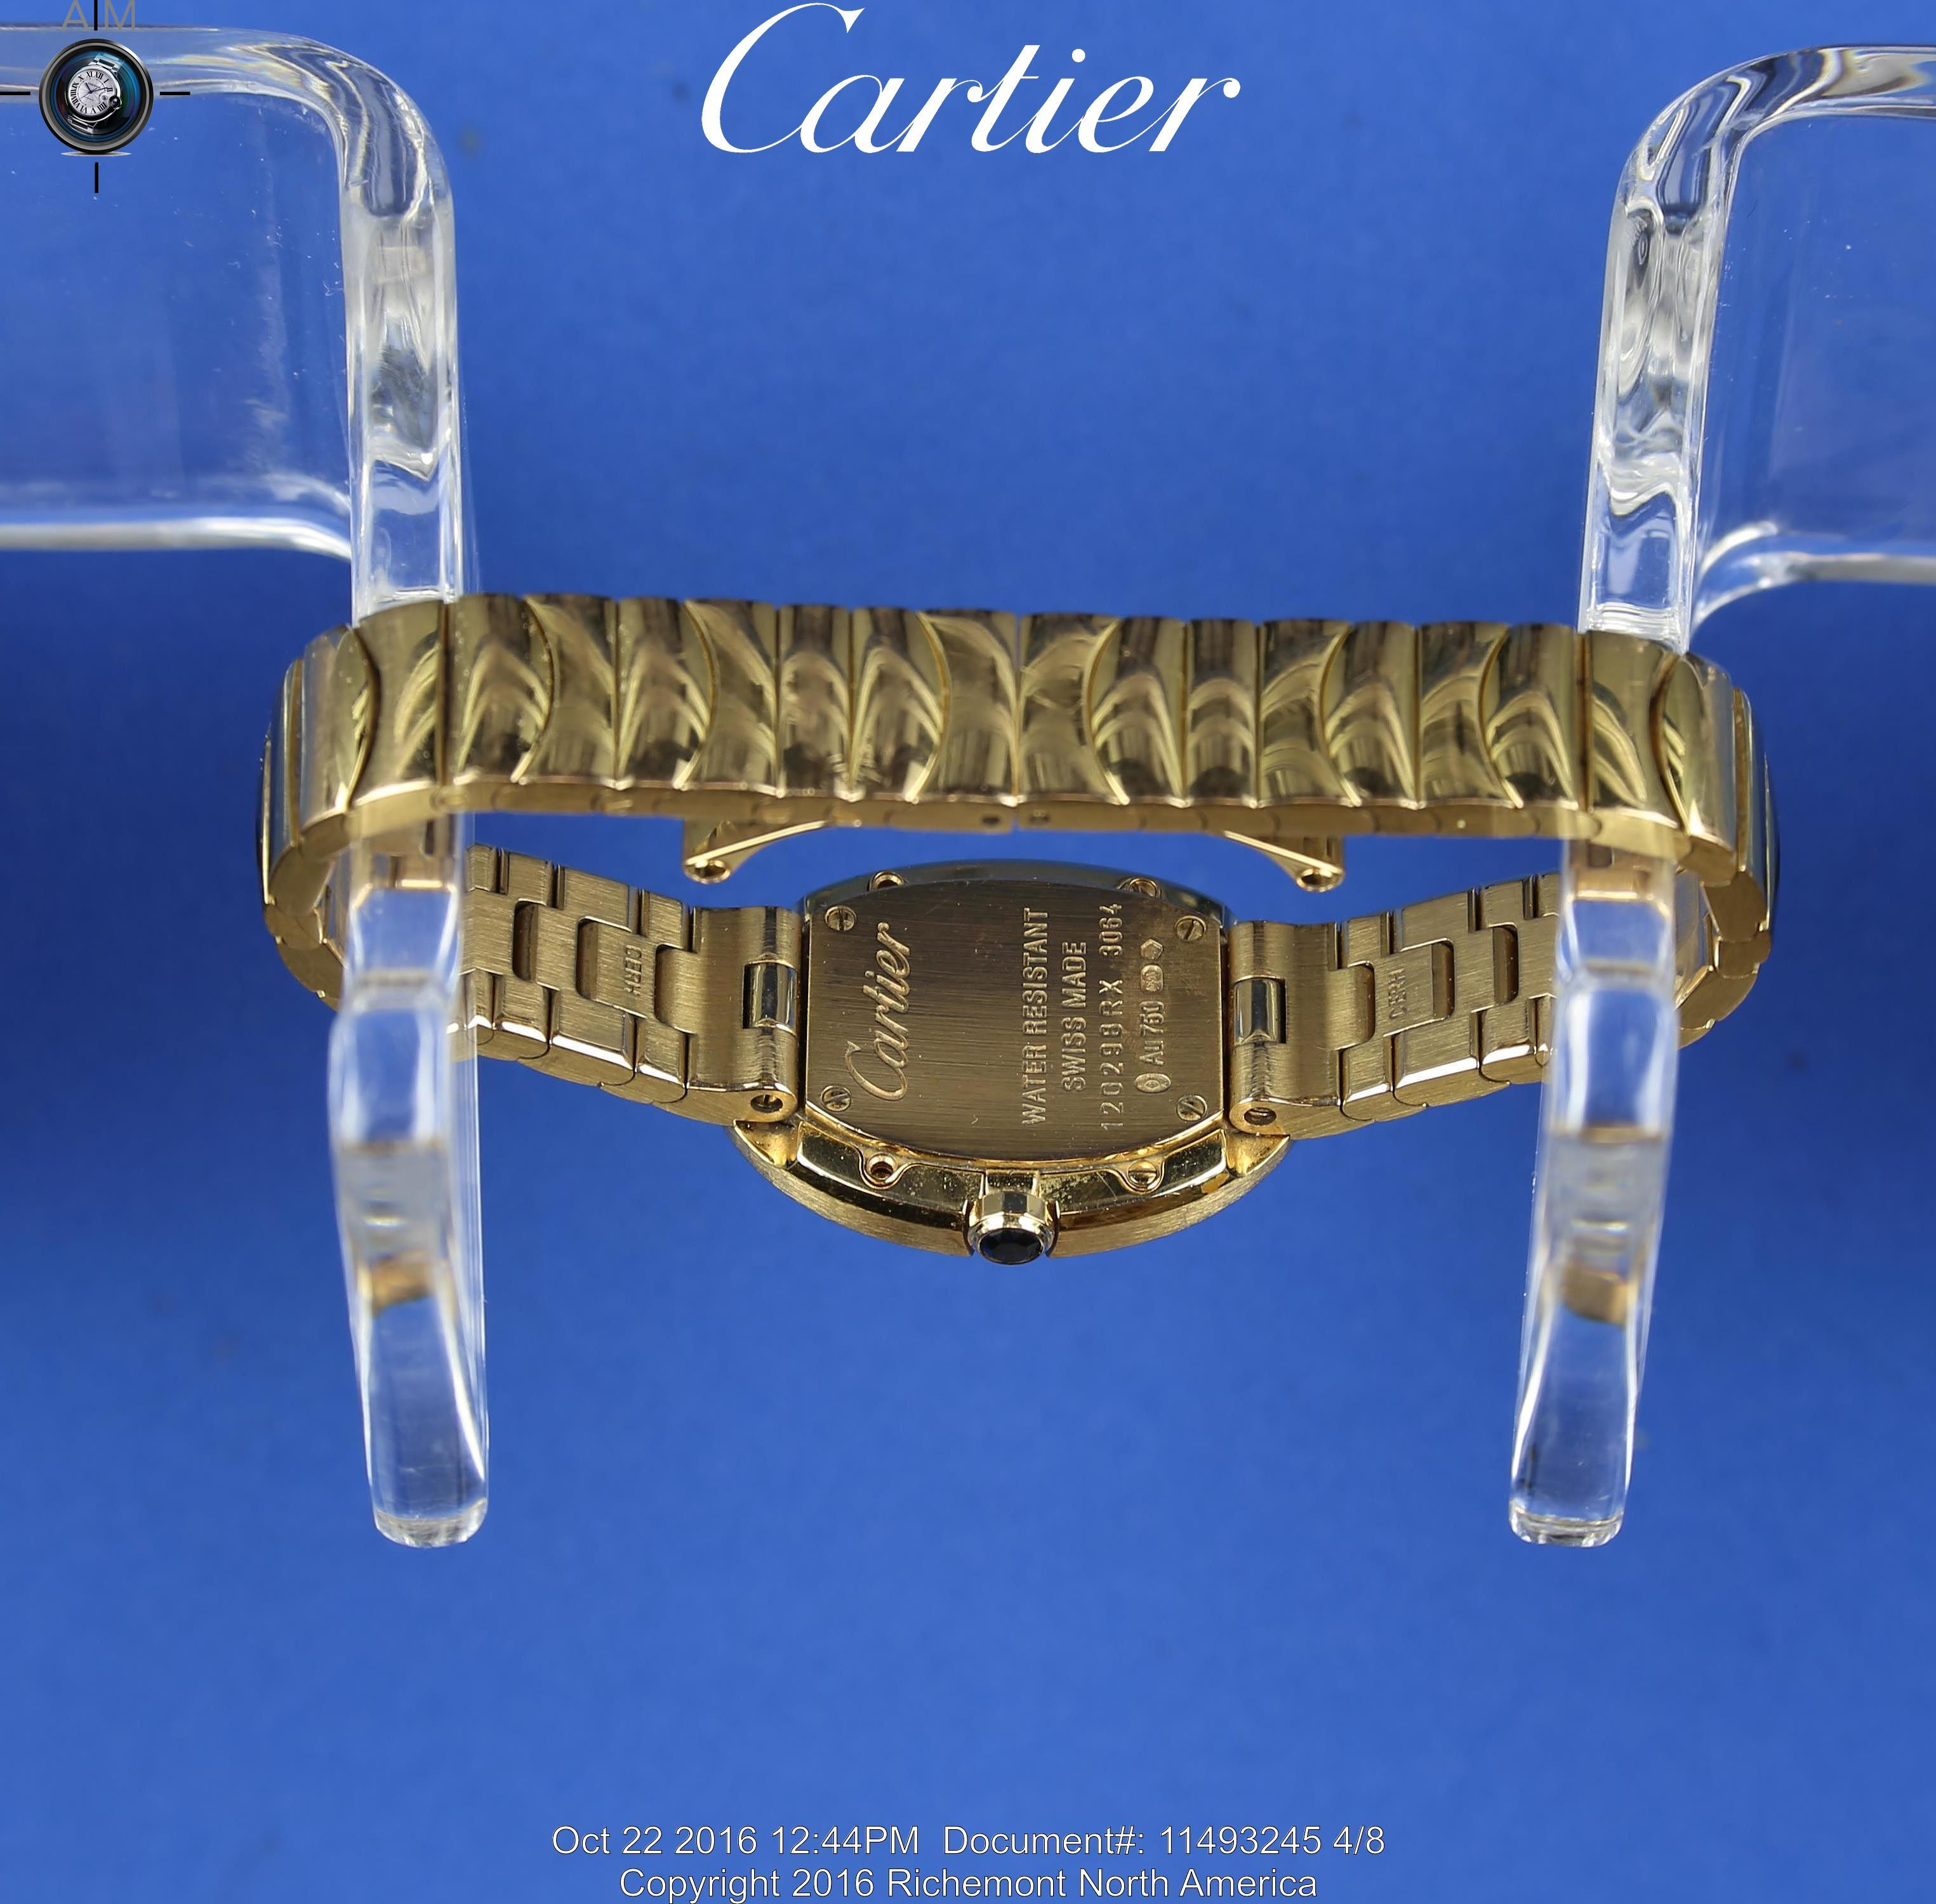Watch Back Case: (727, 856, 1312, 1278)
